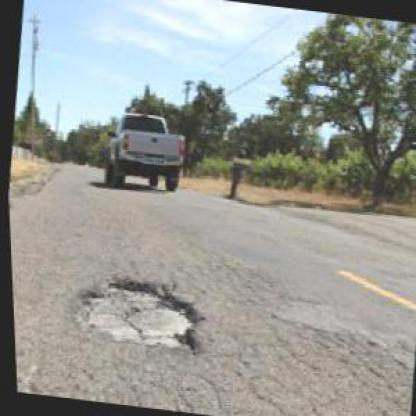pothole: (64, 269, 206, 358)
